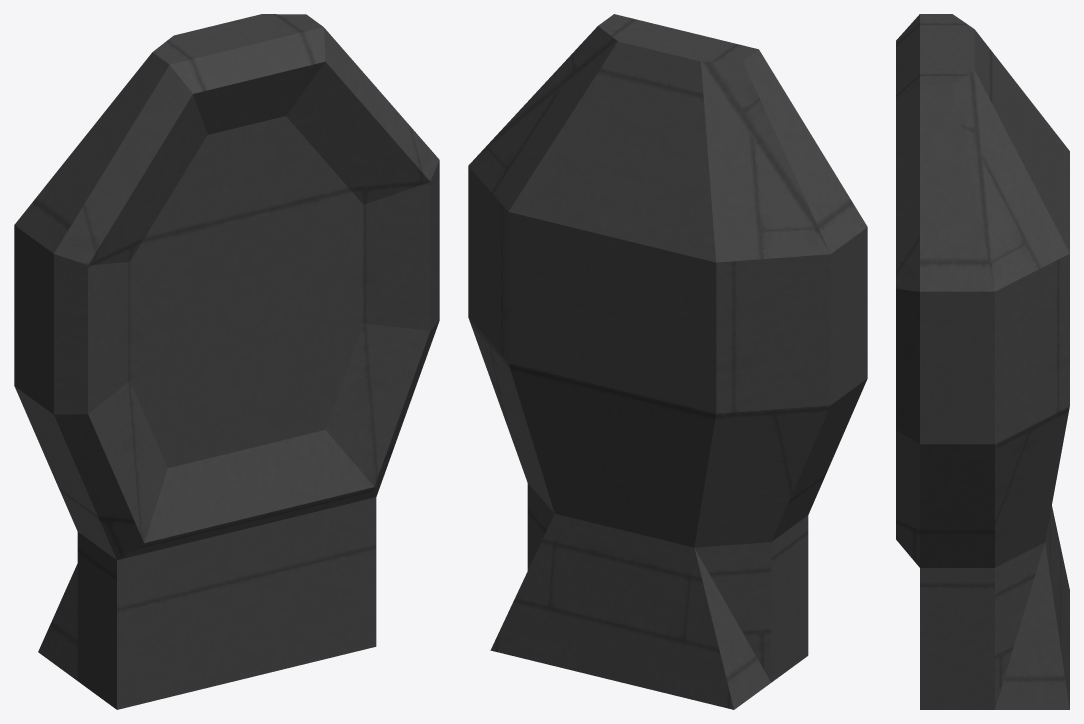
The model's file is UTAW_DemoTargetTypeA.FBX.
3 views of the same model, side by side, from view 1: azimuth 30°, elevation 25°; view 2: azimuth 150°, elevation 25°; view 3: azimuth 270°, elevation 25° (orthographic). The views are drawn at different scales.
Visible parts, largest first — view 1: UTAW_DemoTargetTypeA; view 2: UTAW_DemoTargetTypeA; view 3: UTAW_DemoTargetTypeA.
Part boxes in pixels (x1,y1,x2,y2): UTAW_DemoTargetTypeA: (14, 14, 439, 709); UTAW_DemoTargetTypeA: (468, 14, 867, 709); UTAW_DemoTargetTypeA: (896, 14, 1069, 709).
Bounding box in the file's own units: 177 × 278 × 72.97.
1 material, 1 textured.
